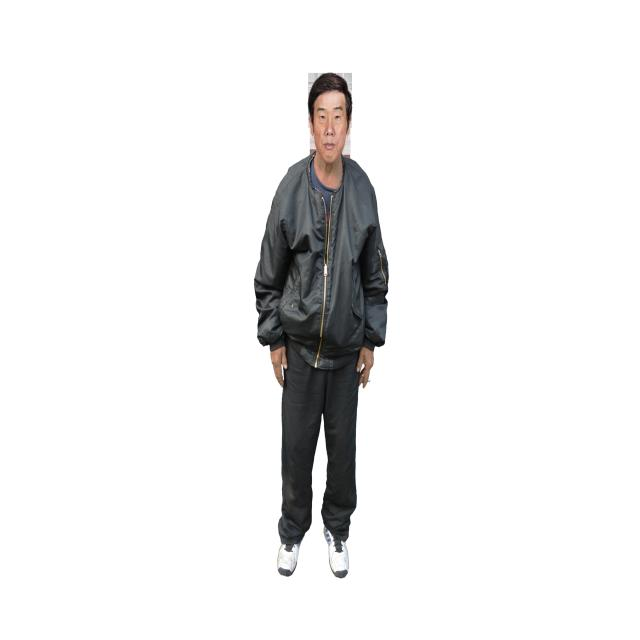jovem: (251, 68, 396, 580)
